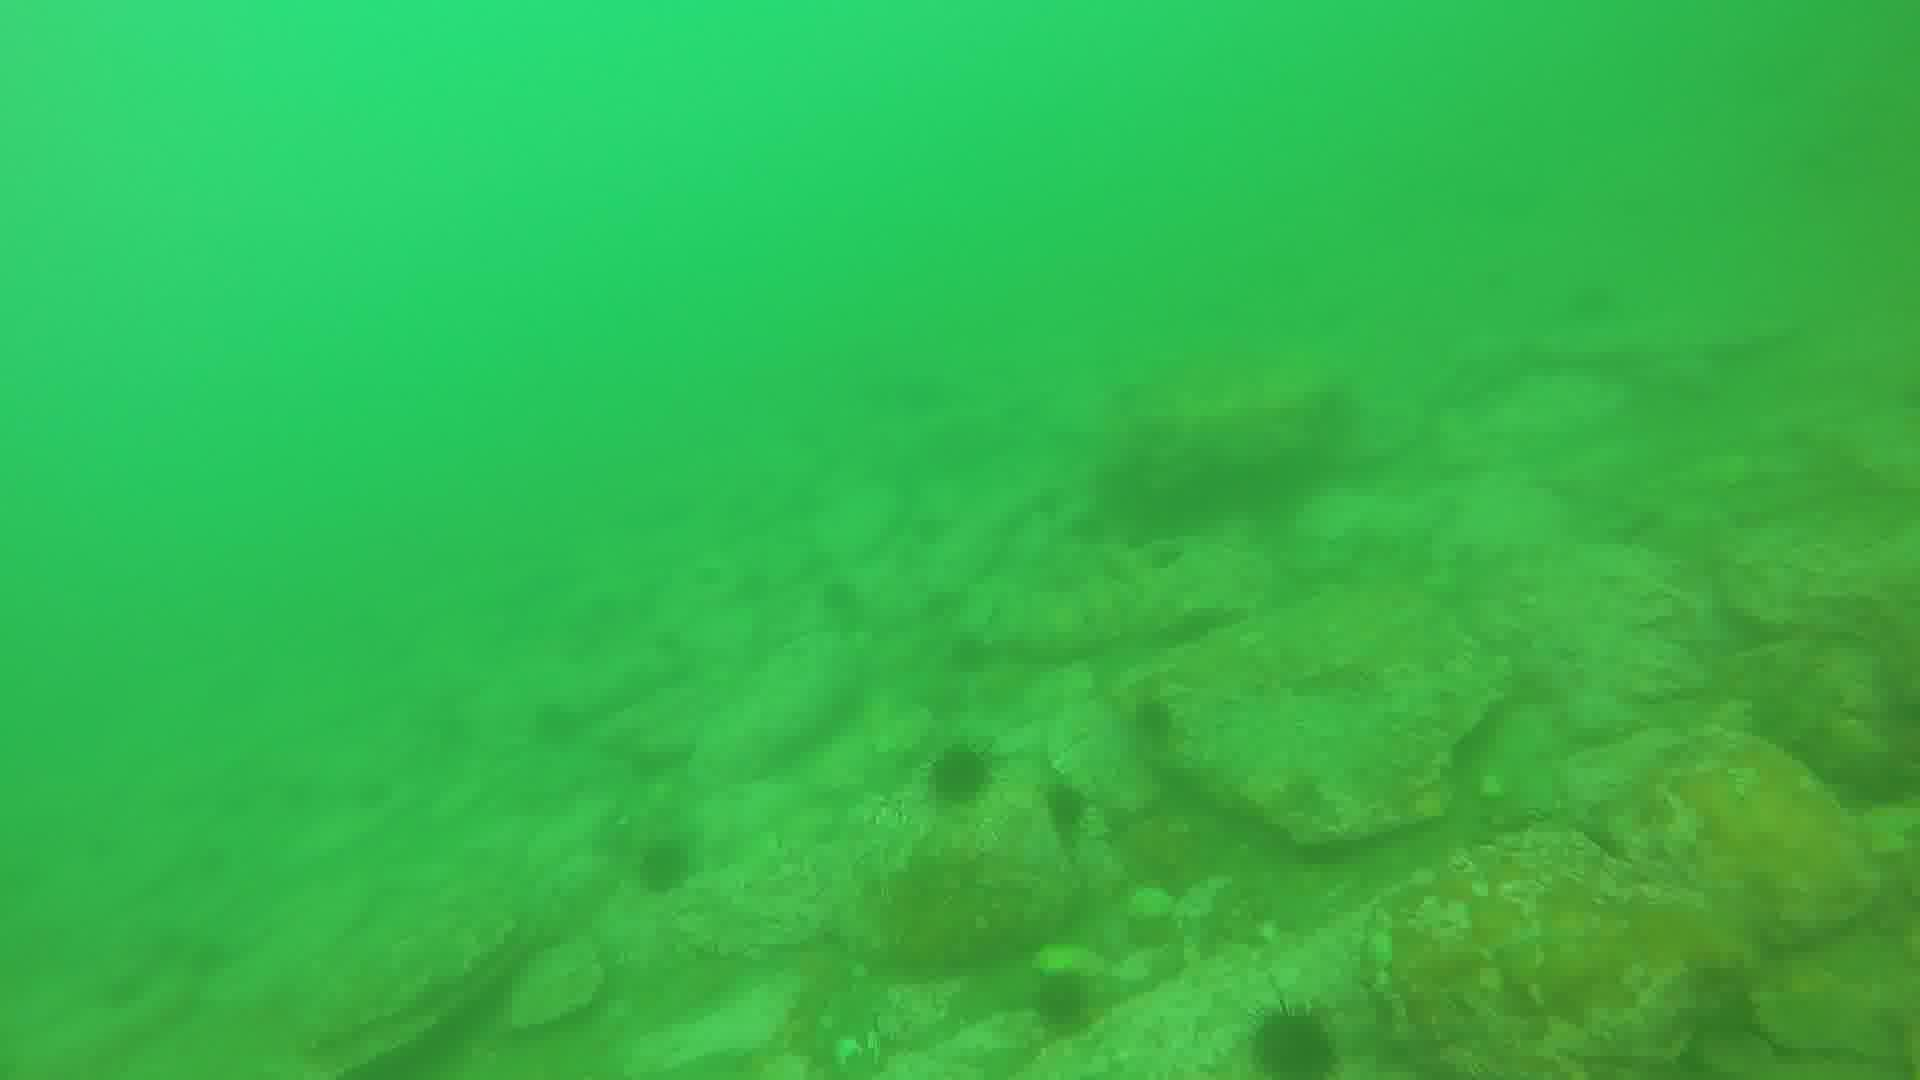echinus: (1251, 1002, 1342, 1080), (1030, 969, 1093, 1033), (928, 742, 988, 808), (633, 835, 695, 895), (1124, 696, 1179, 757), (1038, 777, 1093, 835)
